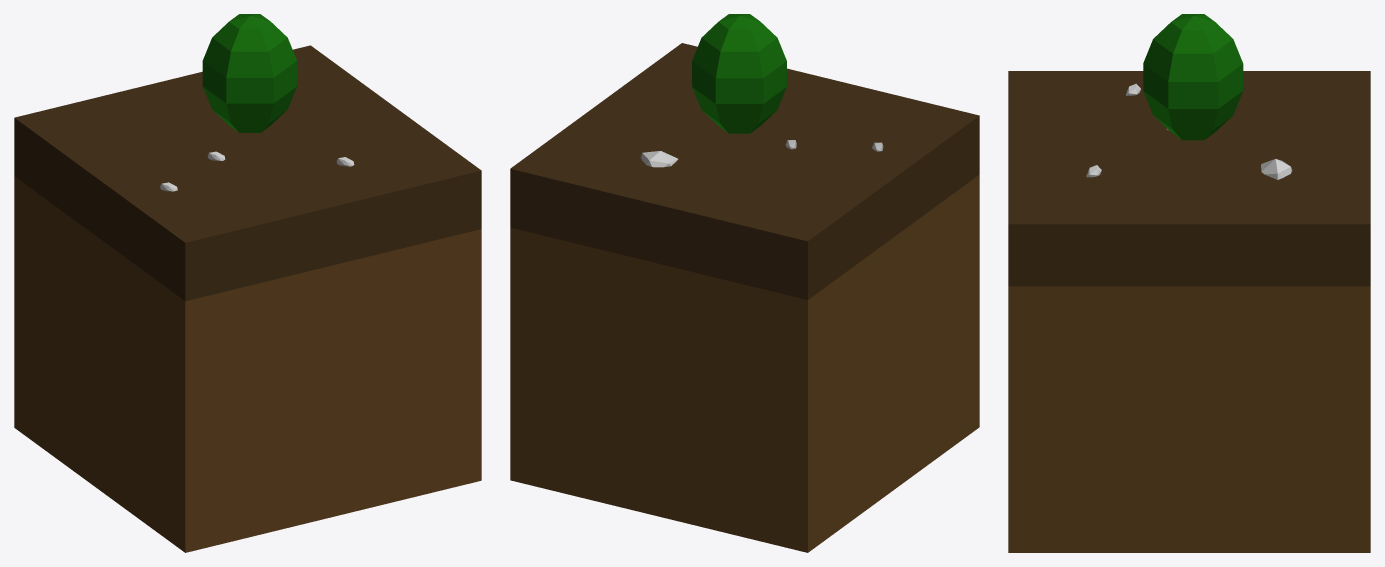
The model's file is grd_Ground1.fbx.
3 views of the same model, side by side, from view 1: azimuth 30°, elevation 25°; view 2: azimuth 150°, elevation 25°; view 3: azimuth 270°, elevation 25° (orthographic). The views are drawn at different scales.
Visible parts, largest first — view 1: Ground1; view 2: Ground1; view 3: Ground1.
Part boxes in pixels (x1=…): Ground1: x1=14, y1=14, x2=481, y2=552; Ground1: x1=510, y1=14, x2=979, y2=552; Ground1: x1=1008, y1=14, x2=1370, y2=552.
Size of the model in its own units: 2.65 by 2.65 by 3.73.
